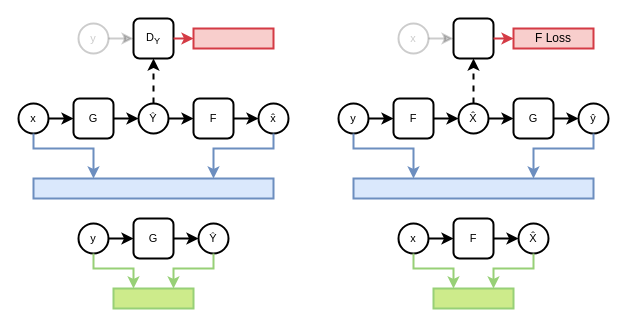
The diagram is 626 pixels wide and 326 high, and some of its shapes have lost their labels. Here are the shapes that lost their labels. From the top down, the box of each, then its label:
(192, 27, 274, 49): G L oss
(452, 17, 494, 59): D X
(32, 177, 274, 199): Forward cycle-consistency loss
(352, 177, 594, 199): Backward cycle-consistency loss
(112, 287, 194, 309): G Identity L oss
(432, 287, 514, 309): F Identity L oss
